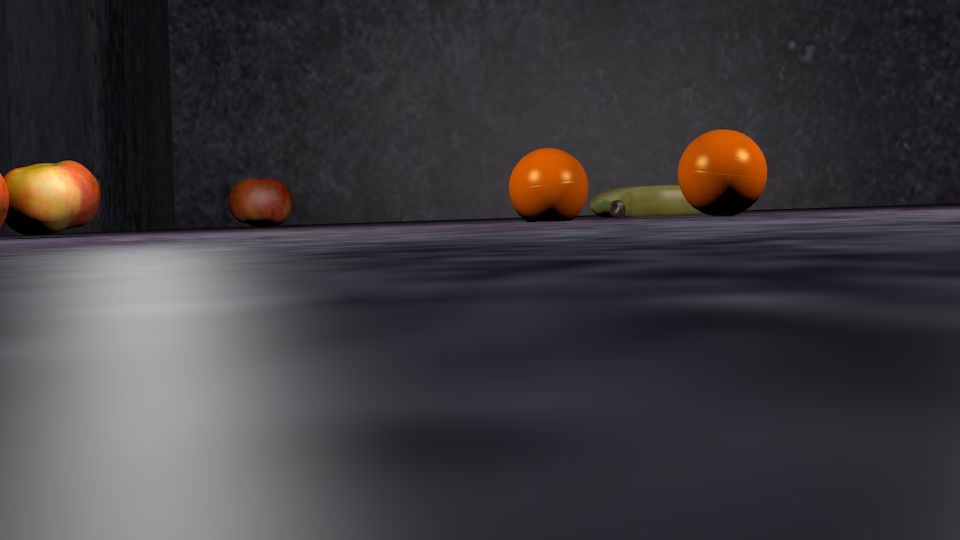apple: (1, 161, 101, 221), (231, 179, 291, 220), (1, 174, 10, 227)
banana: (590, 186, 748, 218)
orange: (678, 130, 768, 203), (509, 148, 589, 213)
